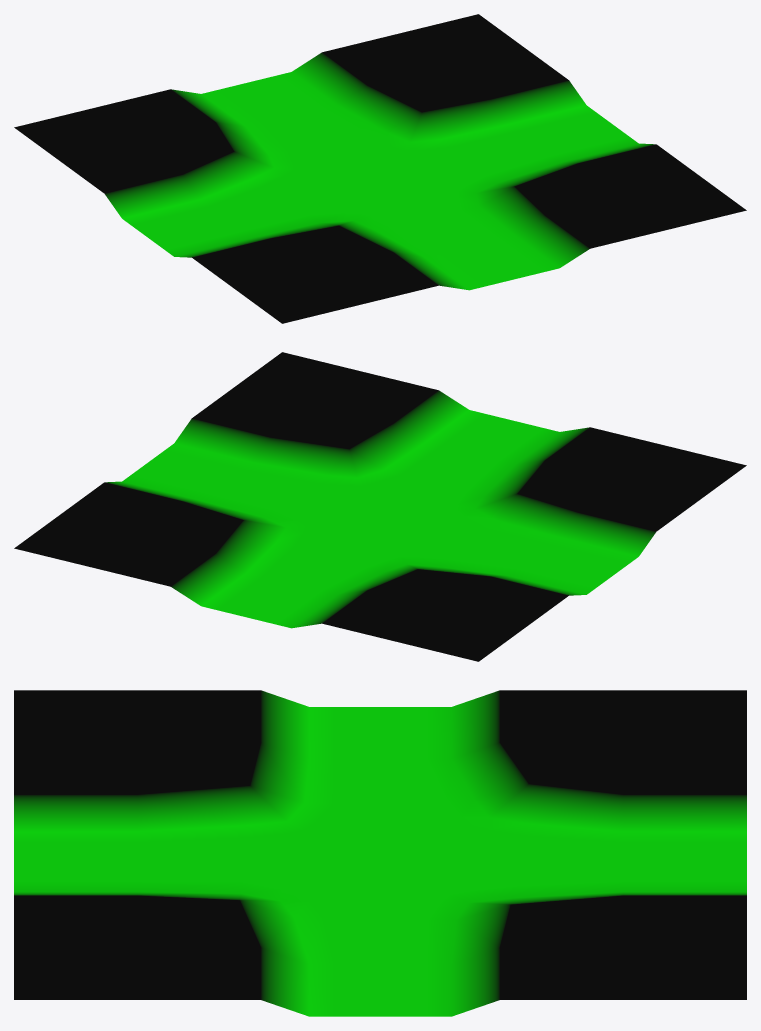
The model's file is SM_Ground_8m_PathwayCross.FBX.
3 views of the same model, one above another, from view 1: azimuth 30°, elevation 25°; view 2: azimuth 150°, elevation 25°; view 3: azimuth 270°, elevation 25° (orthographic). The views are drawn at different scales.
Parts seen in each view (by area): view 1: SM_Ground_8m_PathwayCross; view 2: SM_Ground_8m_PathwayCross; view 3: SM_Ground_8m_PathwayCross.
Part boxes in pixels (left/top/right/bottom): SM_Ground_8m_PathwayCross: left=14, top=14, right=746, bottom=323; SM_Ground_8m_PathwayCross: left=14, top=352, right=746, bottom=661; SM_Ground_8m_PathwayCross: left=14, top=690, right=746, bottom=1016.
Bounding box in the file's own units: 800 × 800 × 20.
